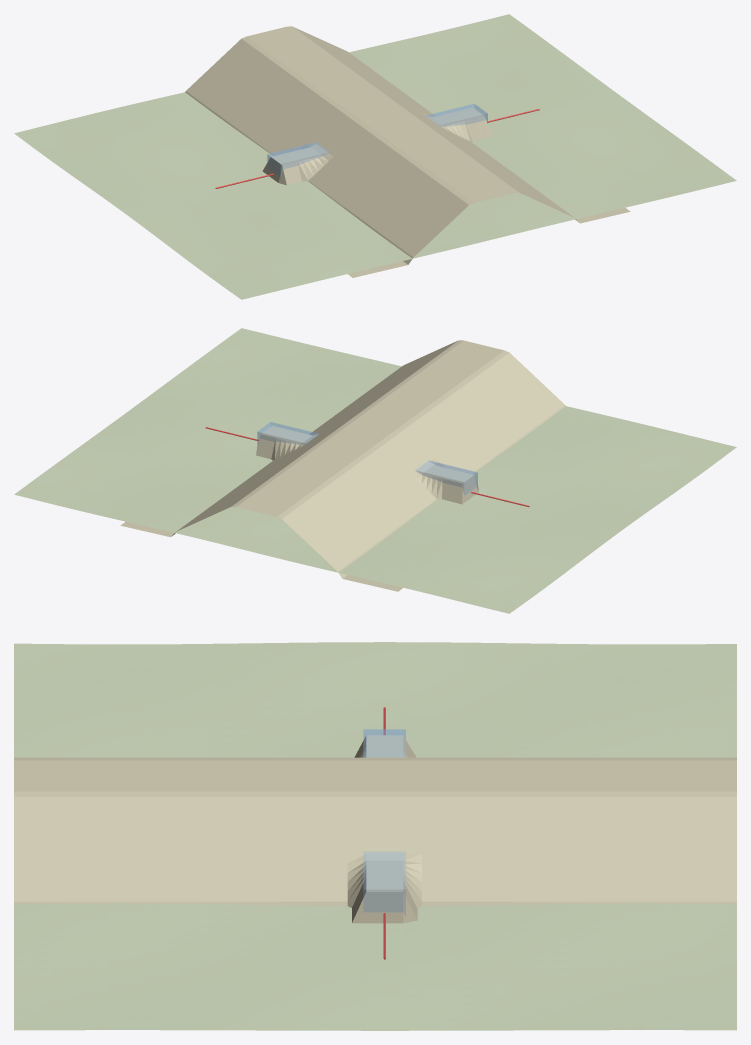
3 views of the same model, one above another, from view 1: azimuth 30°, elevation 25°; view 2: azimuth 150°, elevation 25°; view 3: azimuth 270°, elevation 25° (orthographic). The views are drawn at different scales.
Parts seen in each view (by area): view 1: 地形|現況地形 (参考), 土工|道路盛土 (参考, 天端幅9.5m H=5m), 概略形状|カルバート範囲ボックス; view 2: 地形|現況地形 (参考), 土工|道路盛土 (参考, 天端幅9.5m H=5m), 概略形状|カルバート範囲ボックス; view 3: 地形|現況地形 (参考), 土工|道路盛土 (参考, 天端幅9.5m H=5m), 概略形状|カルバート範囲ボックス.
Part boxes in pixels (box(x1,y1,x2,y2)): 地形|現況地形 (参考): box(14, 14, 736, 299); 土工|道路盛土 (参考, 天端幅9.5m H=5m): box(185, 26, 630, 277); 概略形状|カルバート範囲ボックス: box(267, 104, 487, 179); 地形|現況地形 (参考): box(14, 328, 736, 613); 土工|道路盛土 (参考, 天端幅9.5m H=5m): box(120, 340, 565, 591); 概略形状|カルバート範囲ボックス: box(257, 422, 477, 495); 地形|現況地形 (参考): box(14, 642, 736, 1030); 土工|道路盛土 (参考, 天端幅9.5m H=5m): box(14, 735, 736, 923); 概略形状|カルバート範囲ボックス: box(363, 729, 405, 916).
Size of the model in its own units: 98 by 8.91 by 78.
